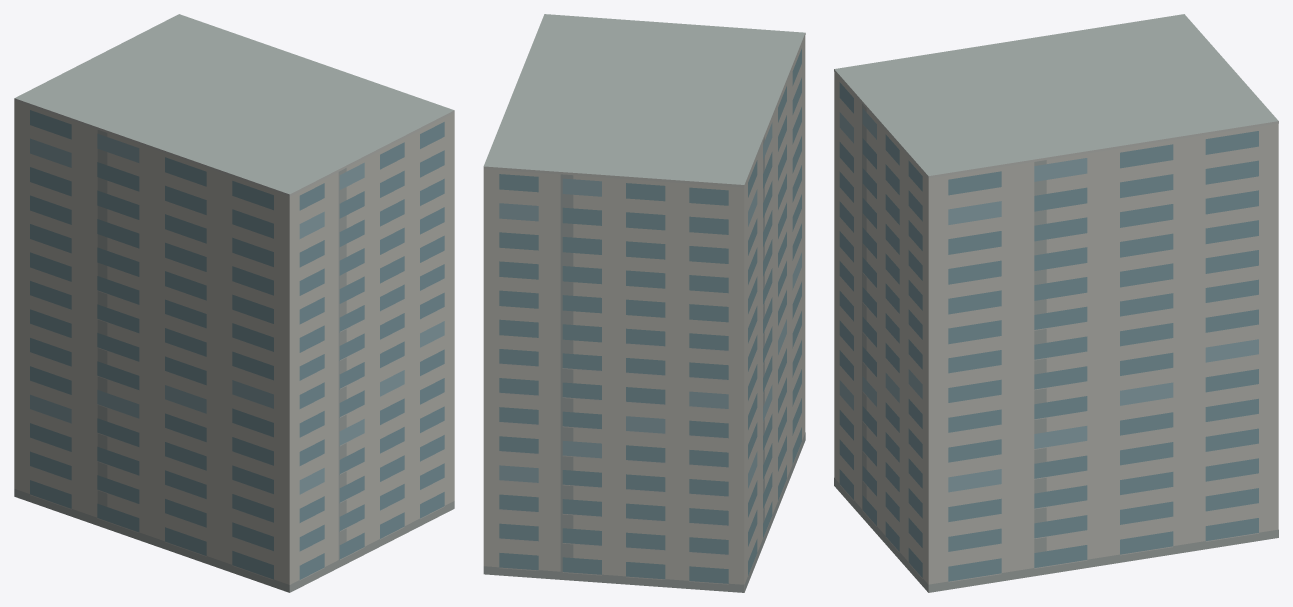
The model's file is residential-9f9af0ec-33d7-4369-b9ef-236419f93272.glb.
The picture shows the model from 3 angles, left to right: view 1: azimuth 30°, elevation 25°; view 2: azimuth 150°, elevation 25°; view 3: azimuth 270°, elevation 25°; orthographic projection. The views are drawn at different scales.
Parts seen in each view (by area): view 1: residential-9f9af0ec-33d7-4369-b9ef-236419f93272.tmp; view 2: residential-9f9af0ec-33d7-4369-b9ef-236419f93272.tmp; view 3: residential-9f9af0ec-33d7-4369-b9ef-236419f93272.tmp.
Part boxes in pixels (<box>): residential-9f9af0ec-33d7-4369-b9ef-236419f93272.tmp: <box>14,14,454,592</box>; residential-9f9af0ec-33d7-4369-b9ef-236419f93272.tmp: <box>483,14,805,592</box>; residential-9f9af0ec-33d7-4369-b9ef-236419f93272.tmp: <box>834,14,1278,592</box>.
Size of the model in its own units: 35.06 by 42 by 40.62.
